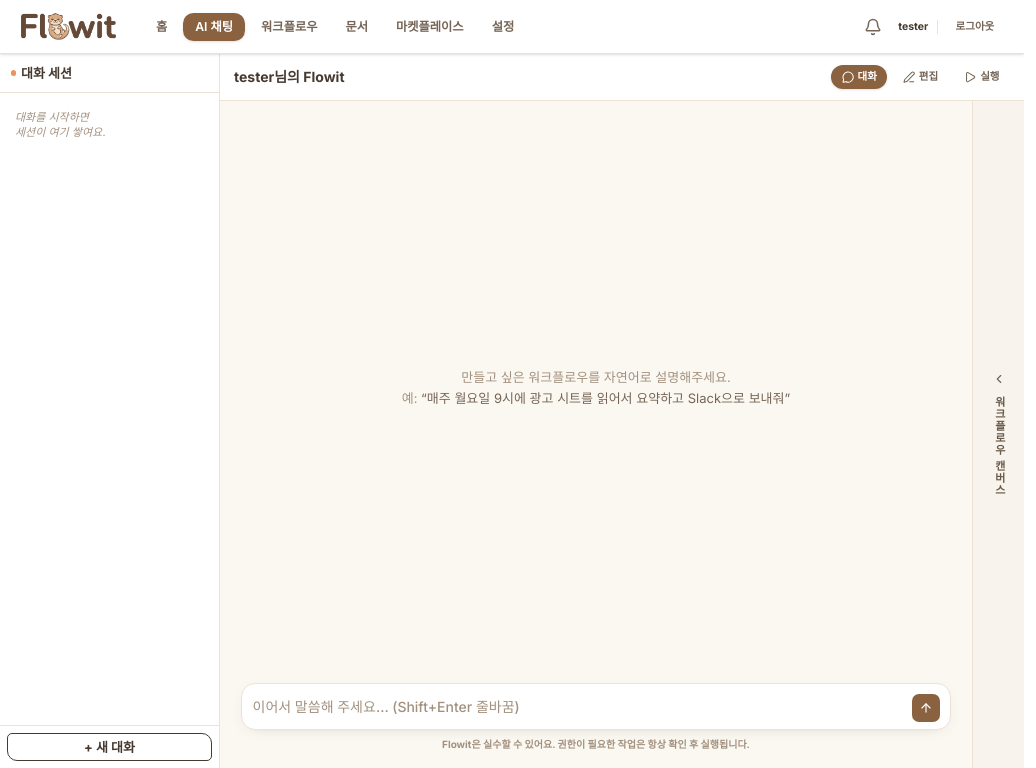
Test: AgentPage — handleSend SSE 연동 › error frame 수신 시 에러 메시지가 채팅에 표시된다
This screenshot has width=1036, height=768.
Type "테스트" into the text box with placeholder "이어서 말씀해 주세요… (Shift+Enter 줄바꿈)". click: (578, 706)
box: [252,691,904,722]
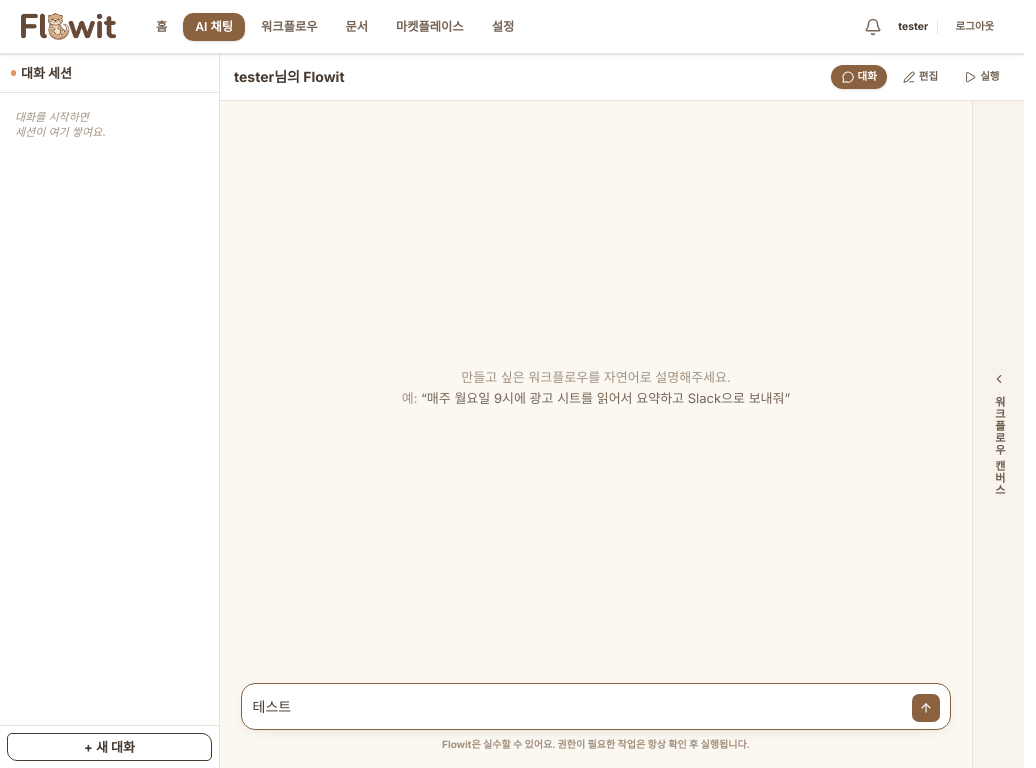
Click the button named "전송". click: (926, 708)
box: [912,694,940,722]
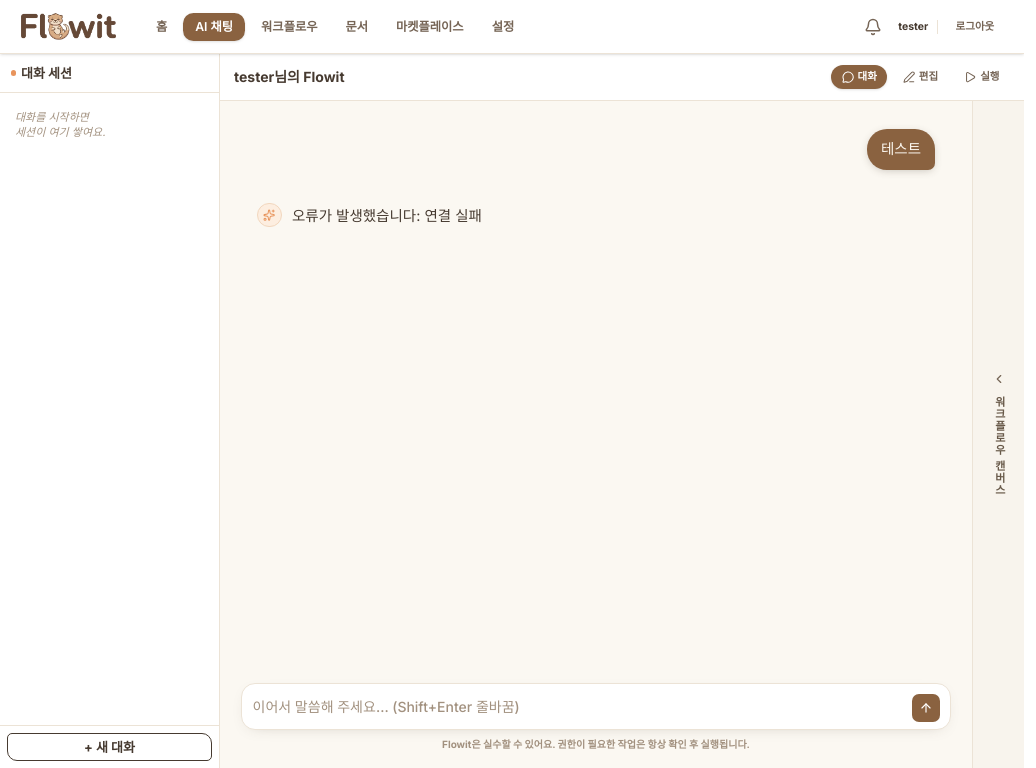
Now the text "오류가 발생했습니다: 연결 실패" is shown, box [292,207,482,224]
